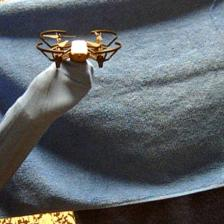drone: (33, 28, 123, 69)
